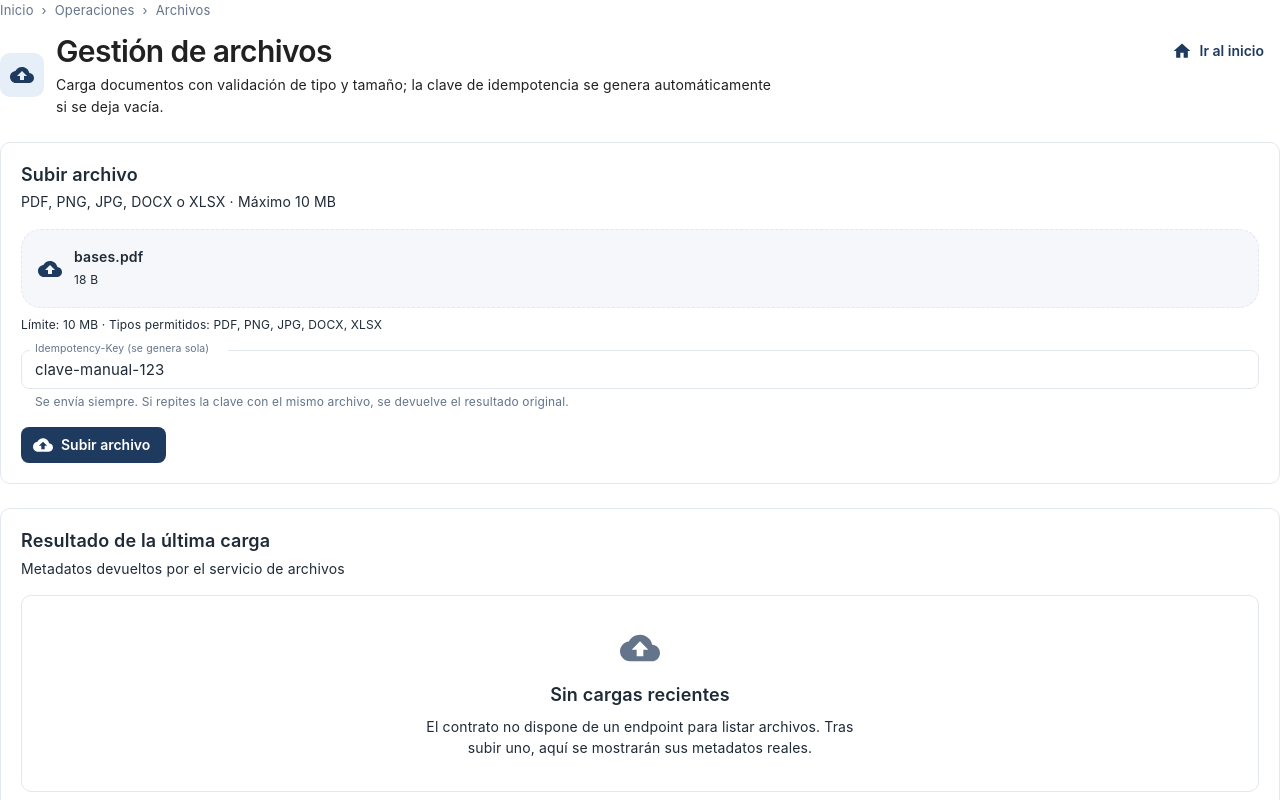
Test: Subida de archivos › respeta la Idempotency-Key escrita por el usuario
Earlier steps of the test are not shown.
Click the button "Subir archivo" at (94, 445), box [21,427,166,463]
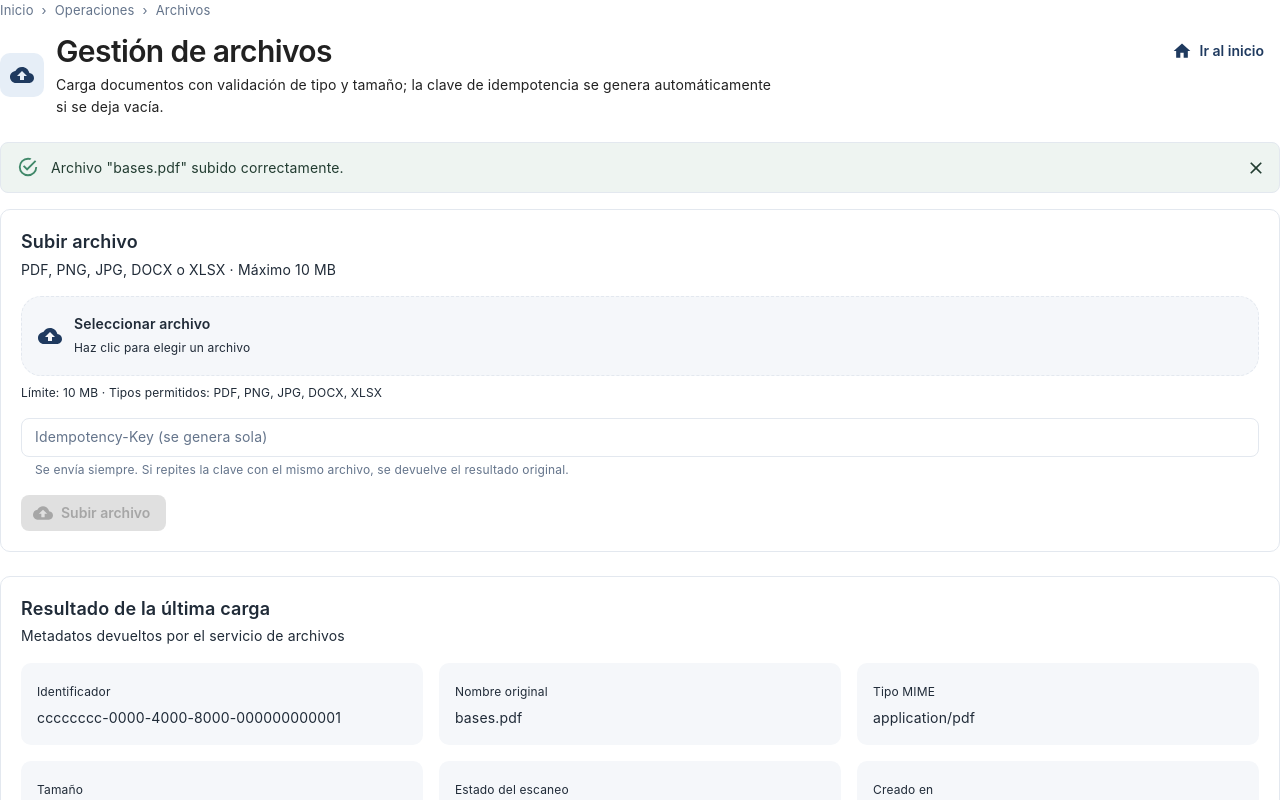
Result: the message shows "subido correctamente" at [51,159,344,176]
